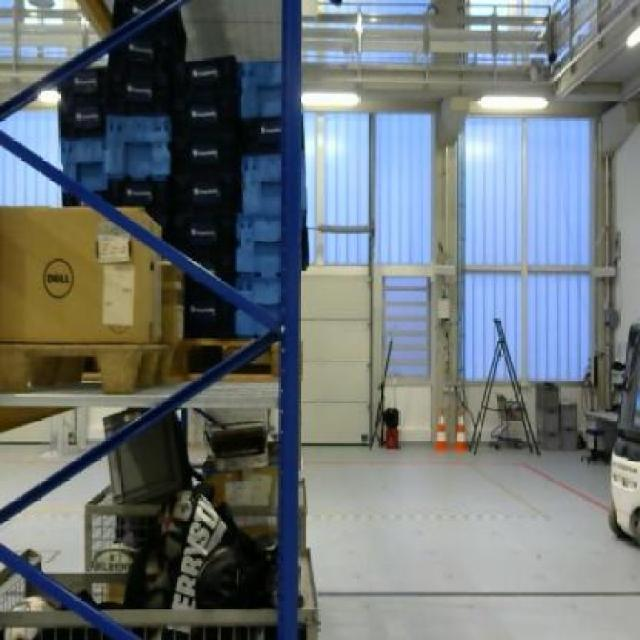box: (1, 202, 161, 340)
